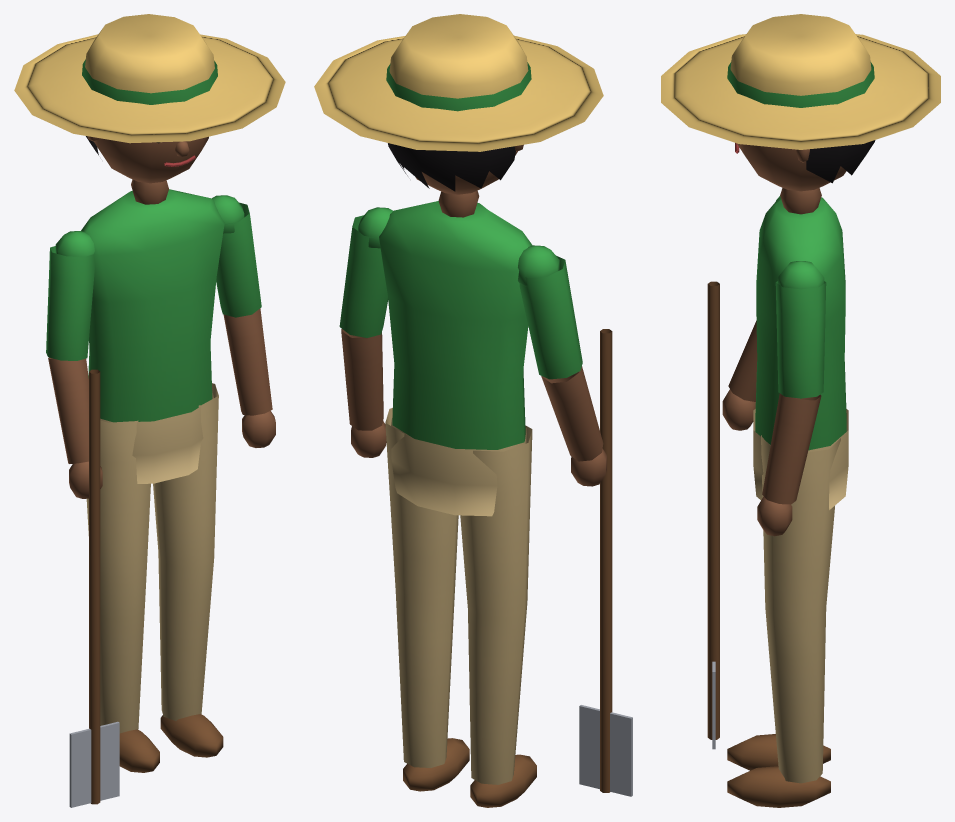
Rendered from Staff_Gardener.obj.
The picture shows the model from 3 angles, left to right: view 1: azimuth 30°, elevation 25°; view 2: azimuth 150°, elevation 25°; view 3: azimuth 270°, elevation 25°; orthographic projection. The views are drawn at different scales.
Parts seen in each view (by area): view 1: Torso, Head, LegL, LegR, ArmR, ArmL, Prop; view 2: Torso, Head, LegR, LegL, ArmR, ArmL, Prop; view 3: Head, LegL, Torso, ArmL, Prop, ArmR, LegR.
Part boxes in pixels (box(x1,y1,x2,y2)): Torso: box(81, 179, 224, 483); Head: box(14, 14, 285, 183); LegL: box(153, 383, 223, 757); LegR: box(86, 420, 159, 772); ArmR: box(46, 231, 102, 498); ArmL: box(211, 195, 275, 447); Prop: box(69, 369, 119, 807); Torso: box(379, 190, 532, 516); Head: box(314, 14, 603, 194); LegR: box(460, 425, 536, 807); LegL: box(385, 407, 469, 791); ArmR: box(518, 245, 606, 486); ArmL: box(339, 207, 392, 457); Prop: box(579, 329, 632, 796); Head: box(661, 14, 940, 191); LegL: box(727, 435, 840, 807); Torso: box(753, 188, 848, 509); ArmL: box(757, 261, 826, 536); Prop: box(707, 281, 719, 749); ArmR: box(722, 196, 780, 430); LegR: box(727, 734, 830, 770).
Bounding box in the file's own units: 0.6673 × 1.91 × 0.6422.
1 material, 1 textured.
